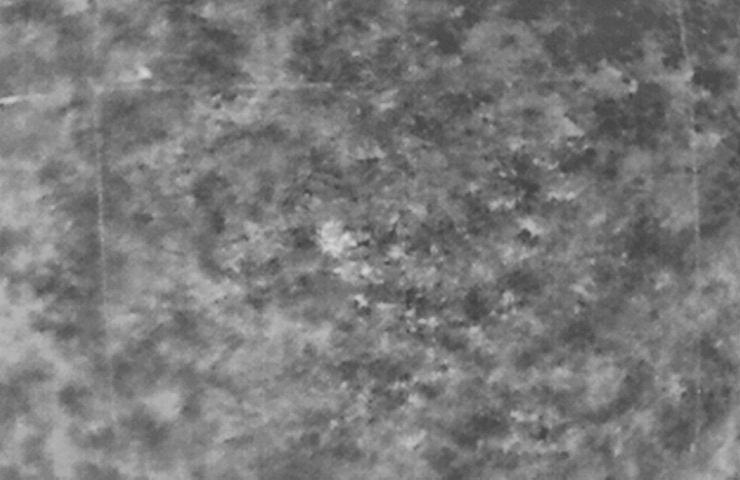landmines: (317, 218, 362, 262)
